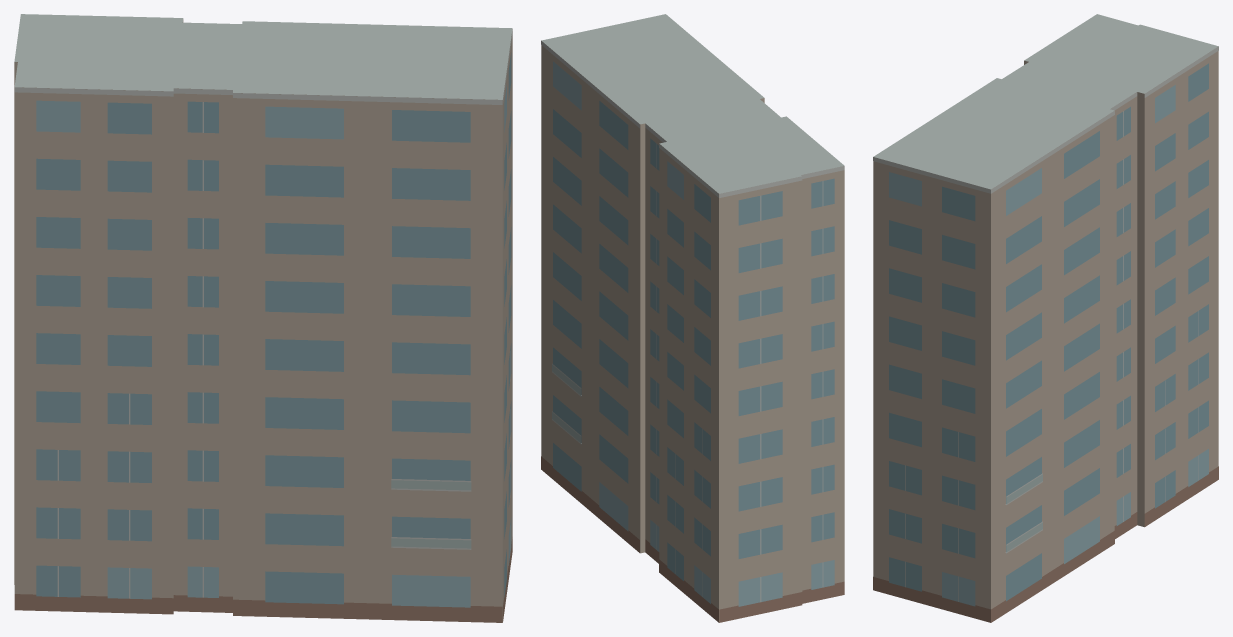
The model's file is survey-upis-32881596.glb.
3 views of the same model, side by side, from view 1: azimuth 30°, elevation 25°; view 2: azimuth 150°, elevation 25°; view 3: azimuth 270°, elevation 25° (orthographic). The views are drawn at different scales.
Visible parts, largest first — view 1: survey-upis-32881596.tmp; view 2: survey-upis-32881596.tmp; view 3: survey-upis-32881596.tmp.
Part boxes in pixels (x1,y1,x2,y2): survey-upis-32881596.tmp: [14, 14, 512, 622]; survey-upis-32881596.tmp: [541, 14, 844, 622]; survey-upis-32881596.tmp: [873, 14, 1218, 622].
Bounding box in the file's own units: 21.39 × 24.61 × 17.8.
